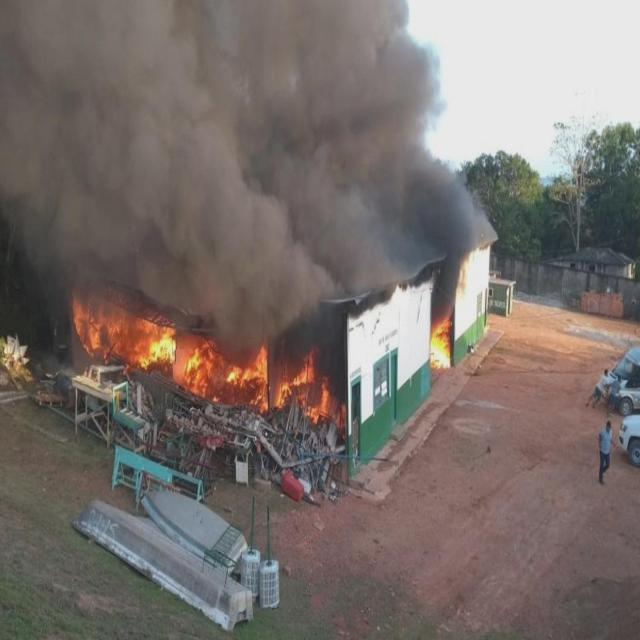Fire: (70, 284, 173, 389), (180, 332, 270, 422), (274, 342, 344, 434), (428, 314, 455, 374)
